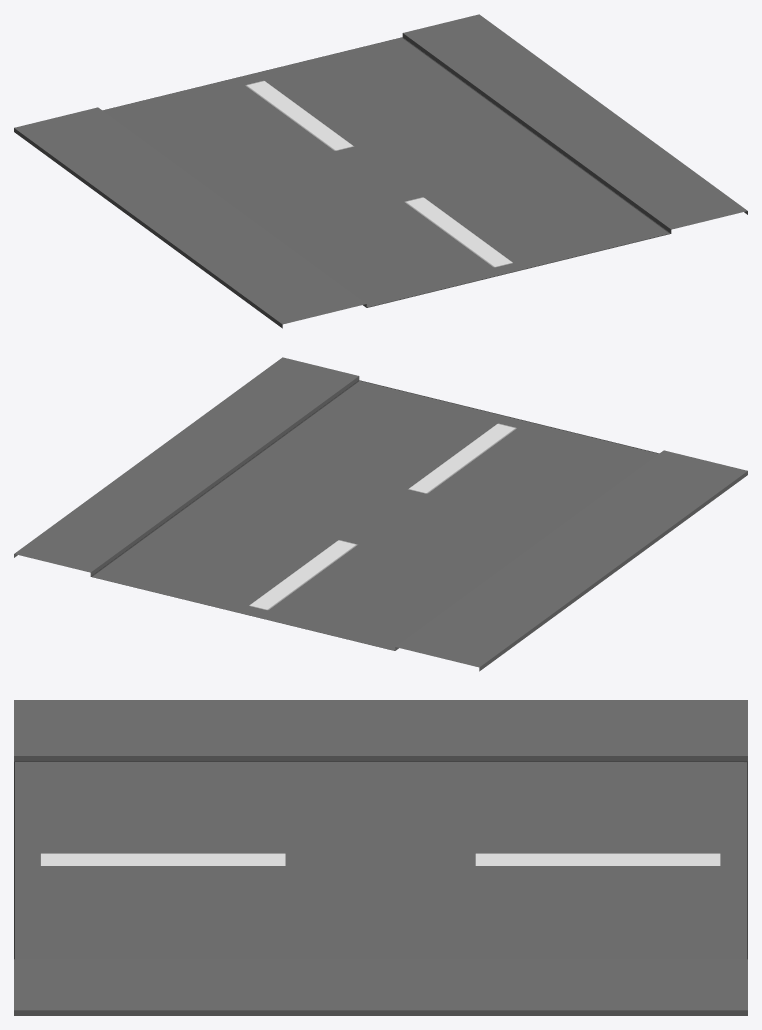
File: road2.fbx
3 views of the same model, one above another, from view 1: azimuth 30°, elevation 25°; view 2: azimuth 150°, elevation 25°; view 3: azimuth 270°, elevation 25° (orthographic). The views are drawn at different scales.
Visible parts, largest first — view 1: road2; view 2: road2; view 3: road2.
Part boxes in pixels (x1,y1,x2,y2): road2: (14,14,747,328); road2: (14,357,747,671); road2: (14,700,747,1015).
Size of the model in its own units: 1107 by 9.43 by 1107.
1 material, 1 textured.
